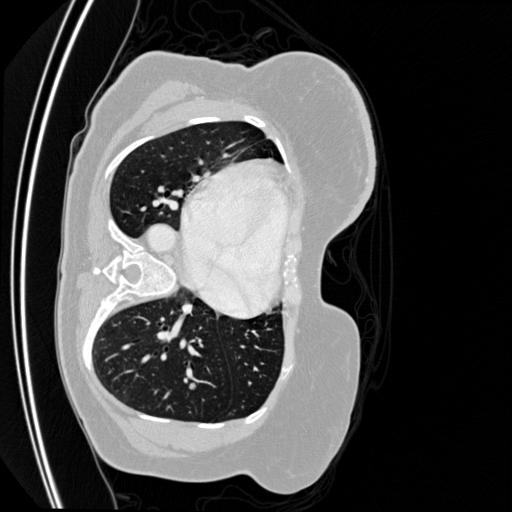nodule: (188, 383, 200, 395)
